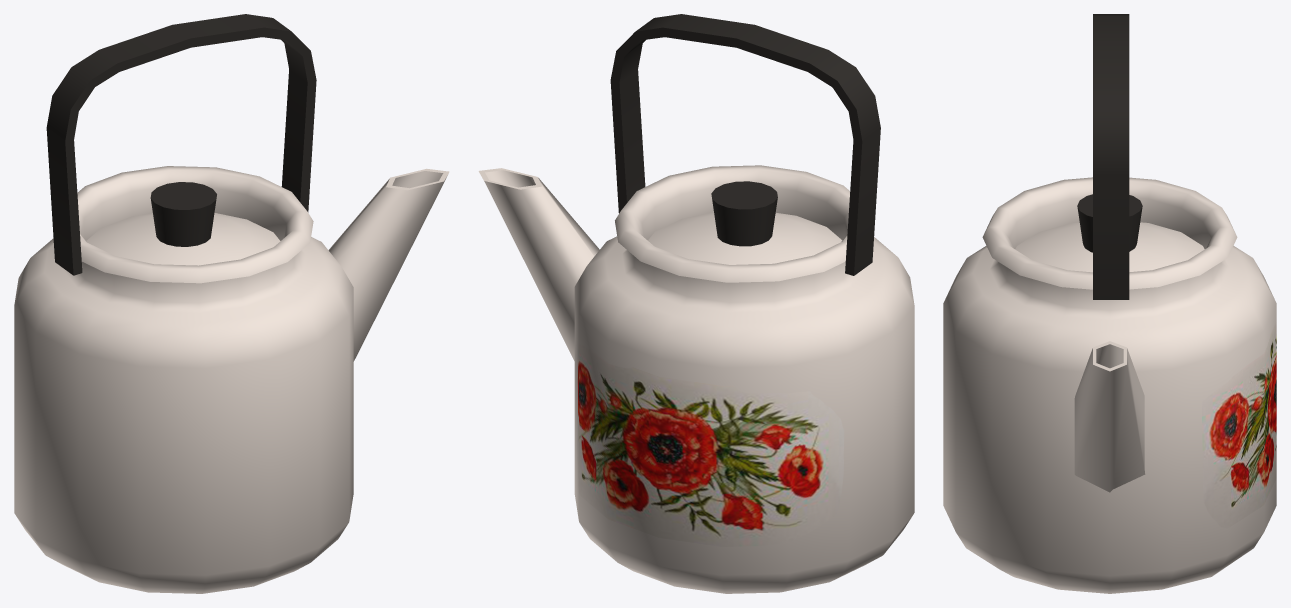
The model's file is Kettle.fbx.
3 renders of one model, left to right at view 1: azimuth 30°, elevation 25°; view 2: azimuth 150°, elevation 25°; view 3: azimuth 270°, elevation 25°, orthographic. The views are drawn at different scales.
Visible parts, largest first — view 1: Cylinder.003; view 2: Cylinder.003; view 3: Cylinder.003.
Part boxes in pixels (box(x1,y1,x2,y2)): Cylinder.003: box(14, 14, 449, 593); Cylinder.003: box(478, 14, 914, 593); Cylinder.003: box(943, 14, 1276, 593).
Bounding box in the file's own units: 71.32 × 84.06 × 51.06.
1 material, 1 textured.
